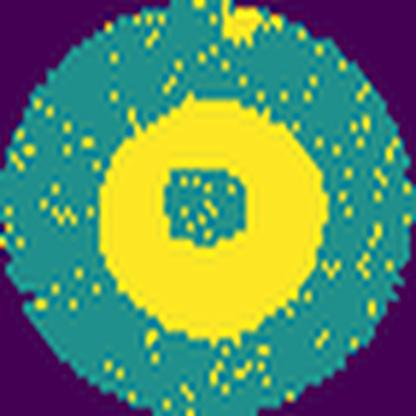Donut: (89, 84, 341, 338)
